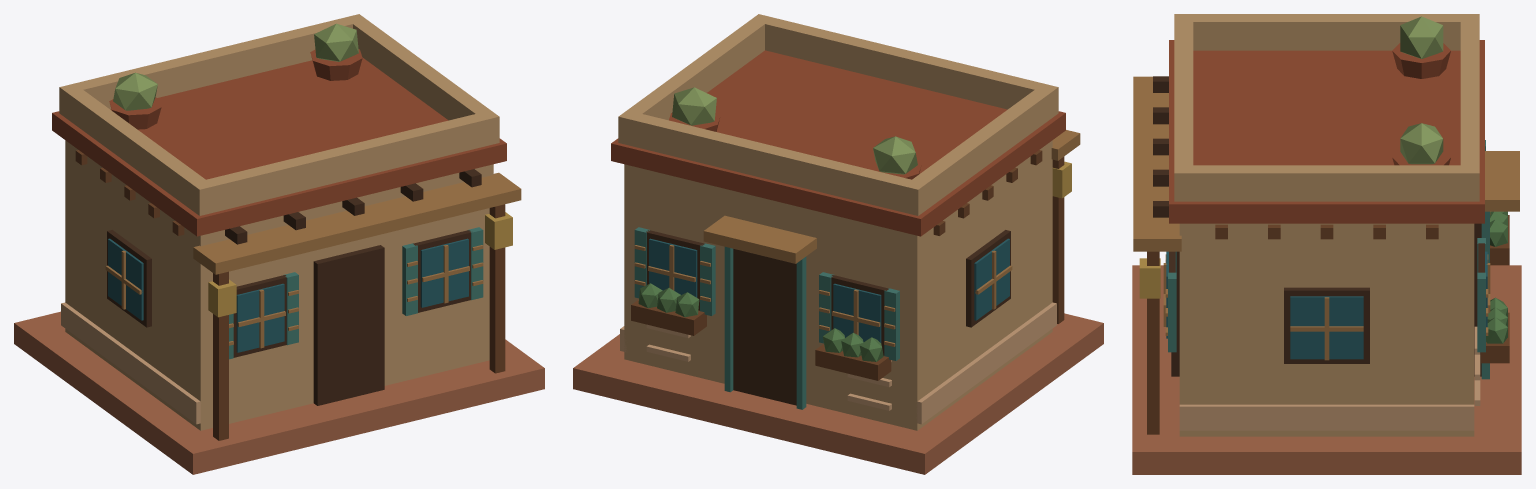
The model's file is Desert_AdobeHouse_Showcase.glb.
3 renders of one model, left to right at view 1: azimuth 30°, elevation 25°; view 2: azimuth 150°, elevation 25°; view 3: azimuth 270°, elevation 25°, orthographic. The views are drawn at different scales.
Parts seen in each view (by area): view 1: Desert_AdobeHouse_Showcase; view 2: Desert_AdobeHouse_Showcase; view 3: Desert_AdobeHouse_Showcase.
Boxes of the visible parts, x1,y1,x2,y2 form: Desert_AdobeHouse_Showcase: (14,14,544,474); Desert_AdobeHouse_Showcase: (573,14,1103,474); Desert_AdobeHouse_Showcase: (1132,14,1521,474).
Bounding box in the file's own units: 4.2 × 3.27 × 3.7.
